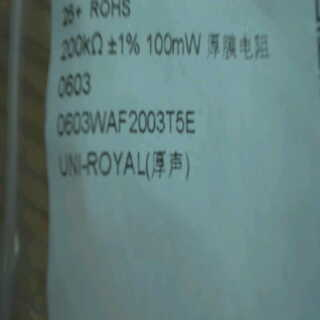200kR: (48, 28, 106, 64)
